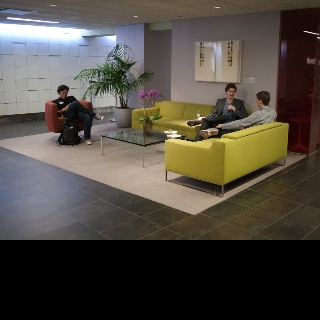without_mask: (225, 88, 236, 98), (58, 88, 68, 98), (256, 95, 260, 108)
